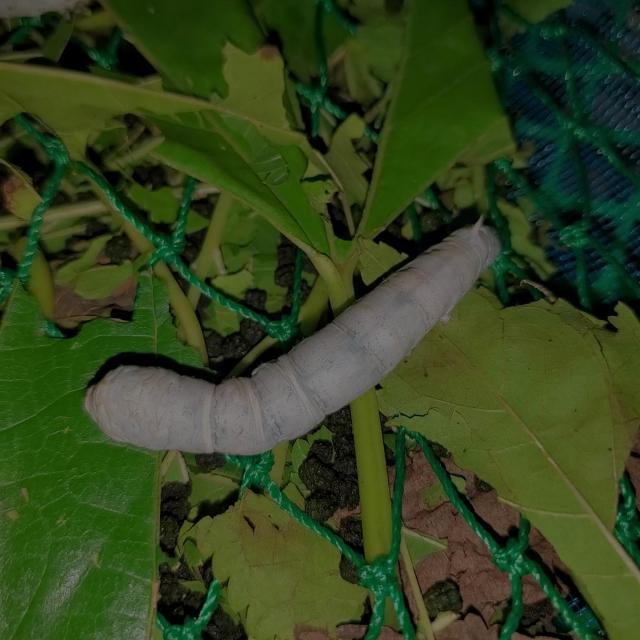Healthy: (78, 202, 514, 460)
